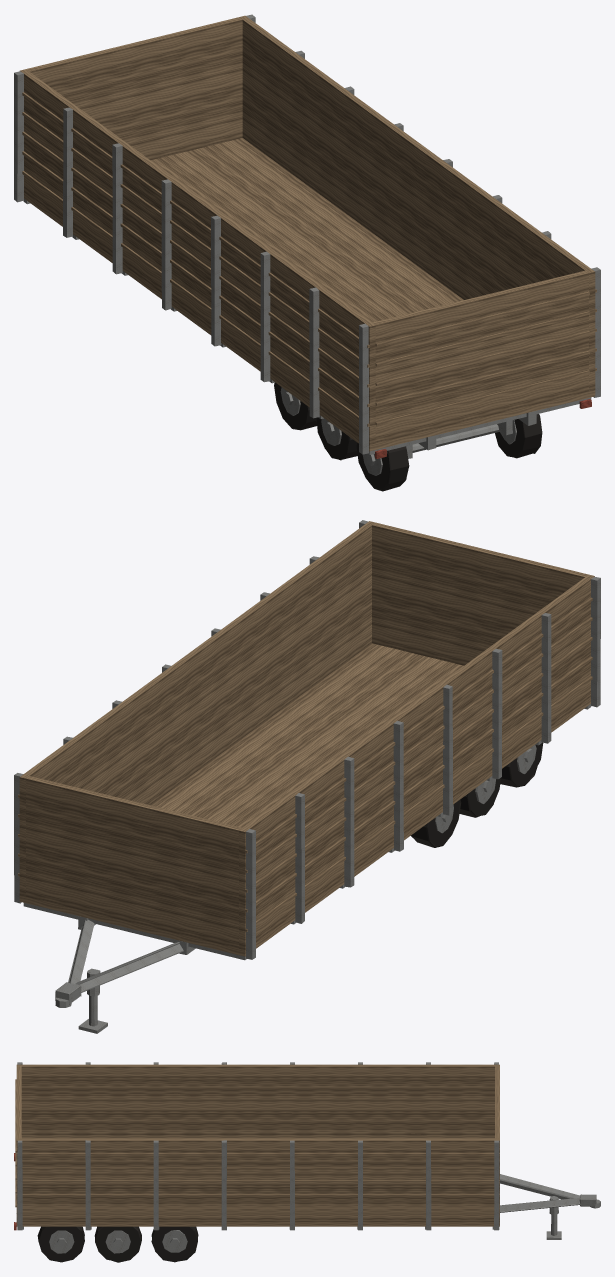
File: large_trailer.glb
The picture shows the model from 3 angles, top to bottom: view 1: azimuth 30°, elevation 25°; view 2: azimuth 150°, elevation 25°; view 3: azimuth 270°, elevation 25°; orthographic projection. The views are drawn at different scales.
Visible parts, largest first — view 1: LargeTrailer, Tailgate, Wheel_L3, Wheel_R3, Wheel_L1, Wheel_L2; view 2: LargeTrailer, Tailgate, Wheel_L3, Wheel_L1, Wheel_L2; view 3: LargeTrailer, Wheel_R2, Wheel_R3, Wheel_R1, Tailgate.
Boxes of the visible parts, x1,y1,x2,y2 form: LargeTrailer: (14, 14, 600, 458); Tailgate: (372, 270, 588, 443); Wheel_L3: (356, 443, 409, 491); Wheel_R3: (495, 414, 542, 458); Wheel_L1: (274, 382, 316, 430); Wheel_L2: (316, 417, 357, 460); LargeTrailer: (14, 520, 600, 1033); Tailgate: (372, 522, 588, 665); Wheel_L3: (500, 742, 543, 787); Wheel_L1: (411, 799, 461, 847); Wheel_L2: (459, 777, 501, 817); LargeTrailer: (14, 1062, 582, 1239); Wheel_R2: (94, 1226, 141, 1262); Wheel_R3: (37, 1226, 84, 1262); Wheel_R1: (151, 1226, 198, 1262); Tailgate: (16, 1066, 21, 1138).
Size of the model in its own units: 3.2 by 2.5 by 9.86.
4 materials, 3 textured.
